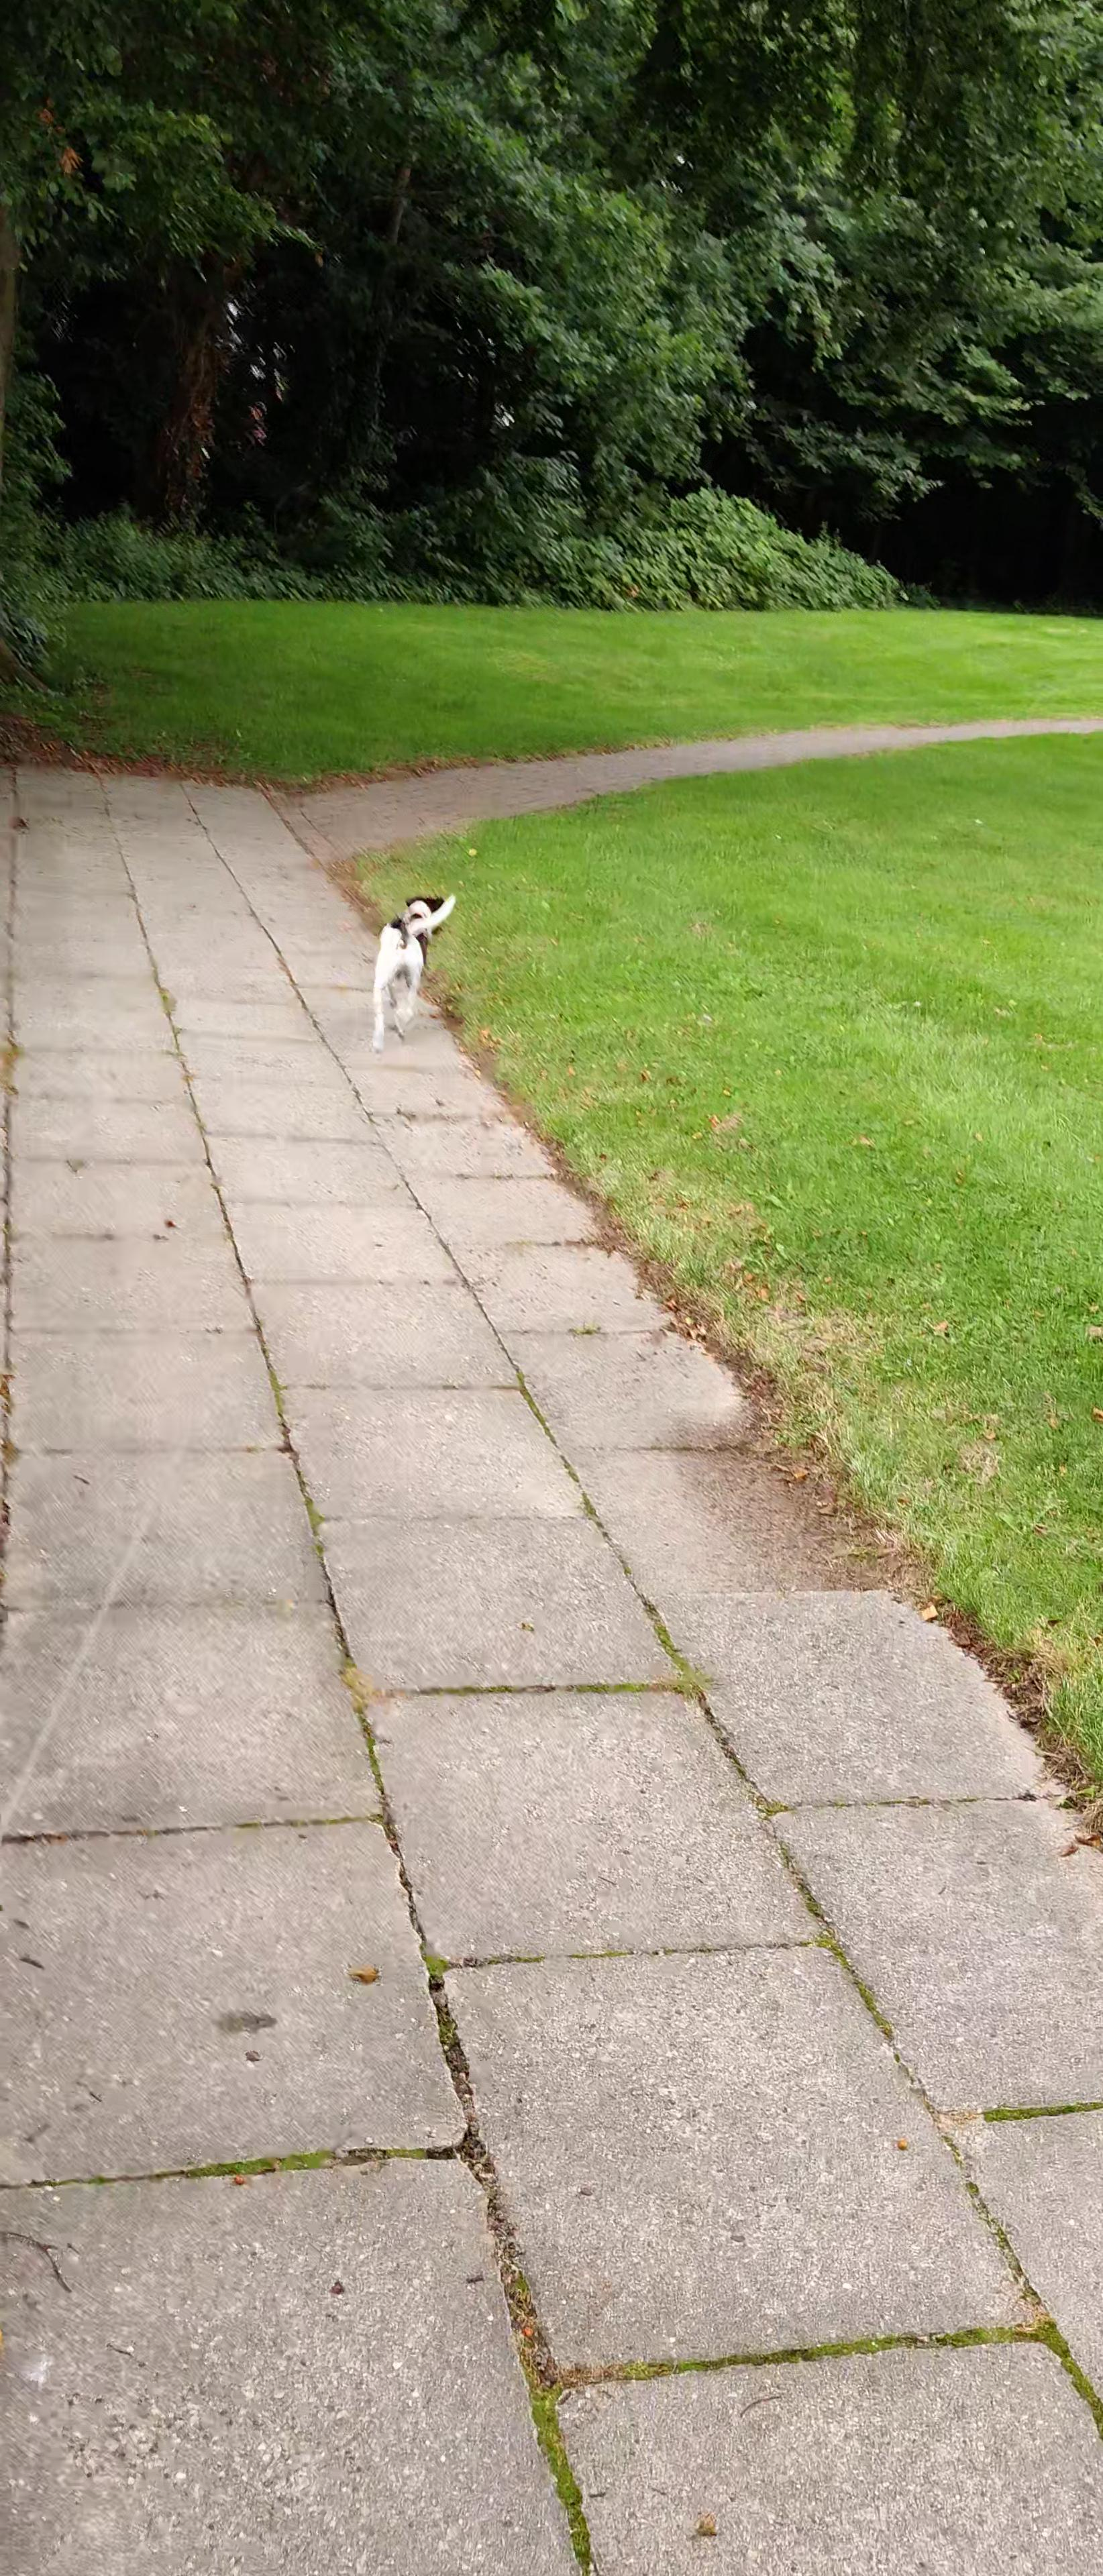Dog: (370, 889, 459, 1056)
